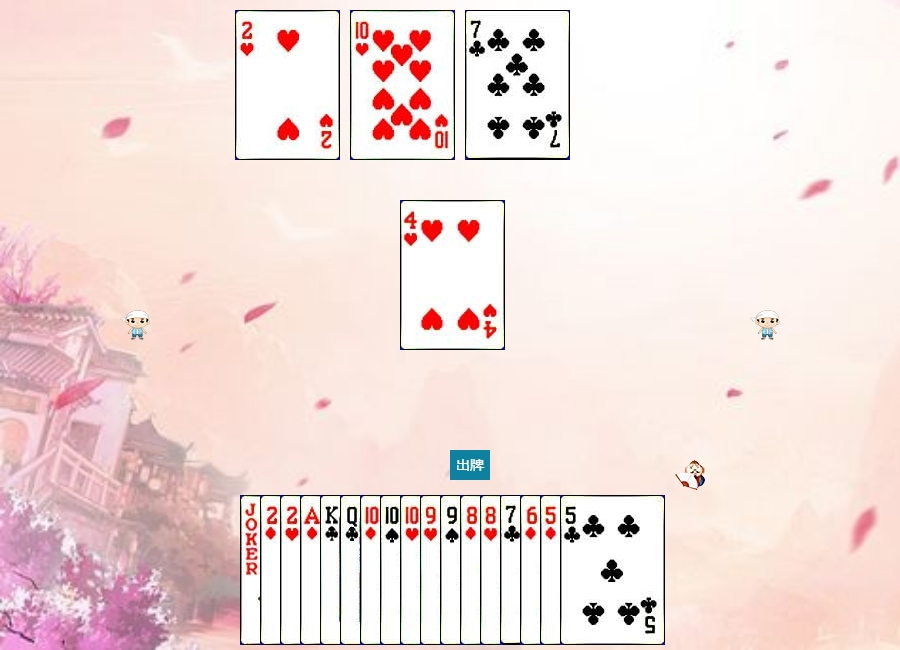10~1: (360, 495, 465, 645)
10~3: (350, 10, 455, 160), (400, 495, 505, 645)
10~4: (380, 495, 485, 645)
12~2: (340, 495, 445, 645)
13~2: (320, 495, 425, 645)
14~1: (300, 495, 405, 645)
15~1: (260, 495, 365, 645)
15~3: (235, 10, 340, 160), (280, 495, 385, 645)
18~4: (240, 495, 345, 645)
4~3: (400, 200, 505, 350)
5~1: (540, 495, 645, 645)
5~2: (560, 495, 665, 645)
6~1: (520, 495, 625, 645)
7~2: (465, 10, 570, 160), (500, 495, 605, 645)
8~1: (460, 495, 565, 645)
8~3: (480, 495, 585, 645)
9~3: (420, 495, 525, 645)
9~4: (440, 495, 545, 645)
